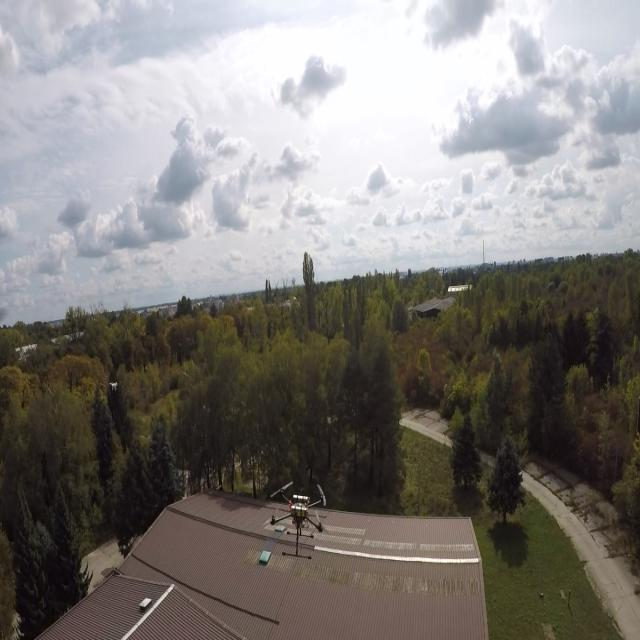UAV: (266, 477, 332, 562)
